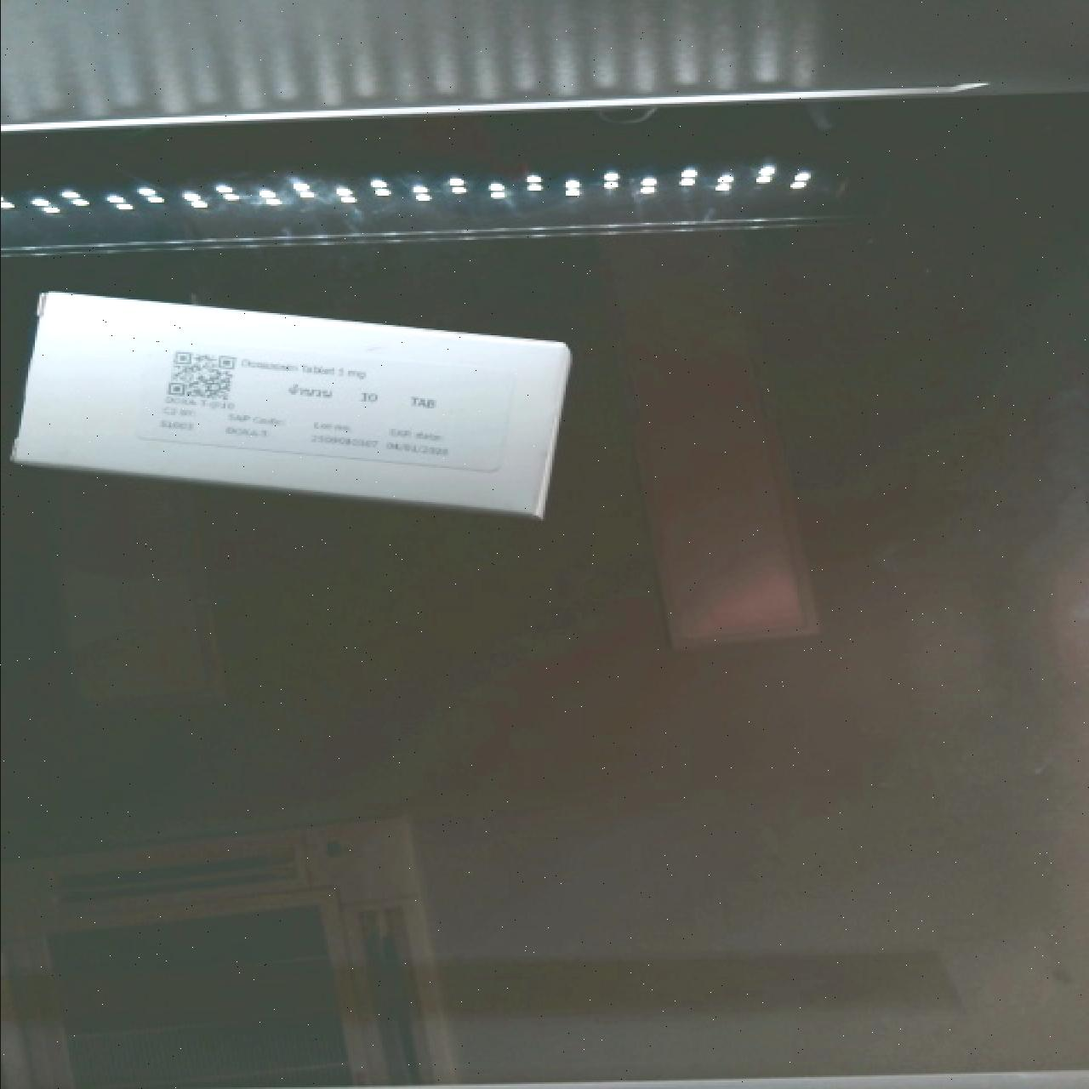qr_code: (146, 337, 256, 417)
